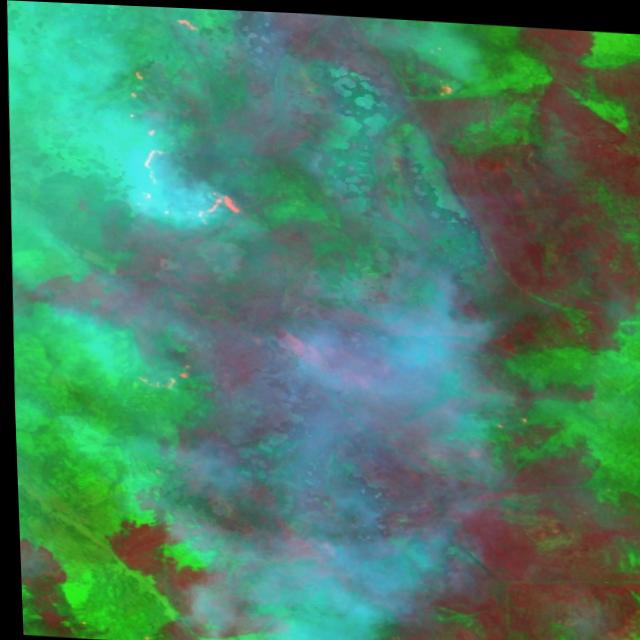fire: (110, 6, 250, 229), (119, 356, 201, 398), (420, 66, 463, 105)
